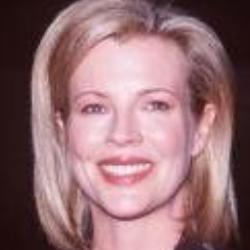face: (3, 8, 233, 227)
